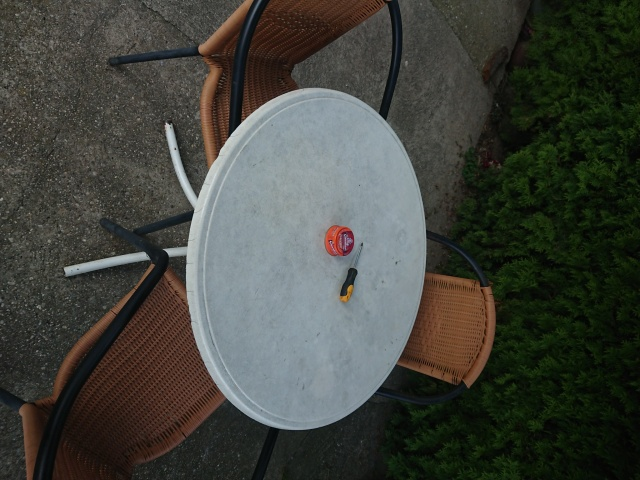Gavrilovic Pork Liver Pate 100g: (323, 223, 355, 257)
